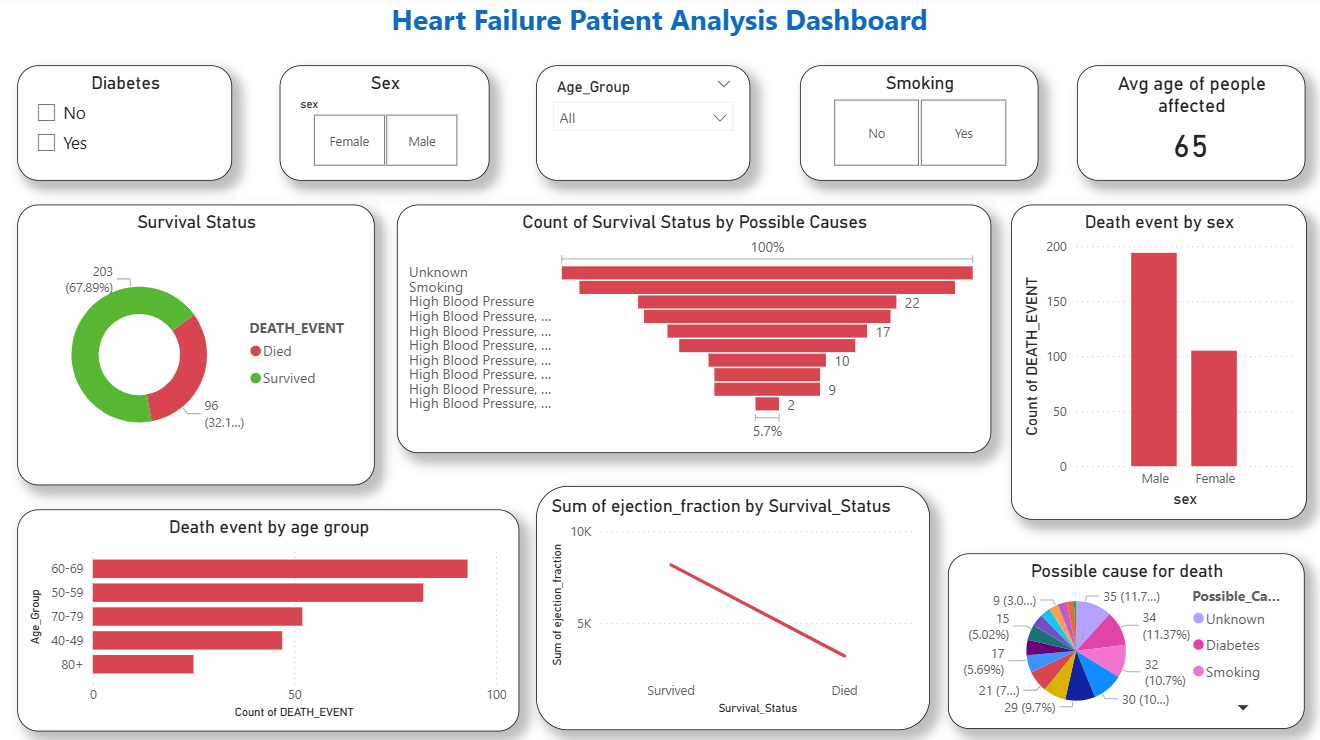

Layout of this report page (visuals, bound fields, positions):
{"tool":"powerbi","page":{"name":"Page 1","canvas":[1280,720],"ordinal":0},"visuals":[{"type":"card","title":"Avg age of people affected","fields":{"Values":["Avg(heart_failure_clinical_records_dataset_cleaned.age)"]},"box":[1037.5,67.5,217.5,110],"z":0},{"type":"columnChart","title":"Death event by sex","fields":{"Category":["heart_failure_clinical_records_dataset_cleaned.sex"],"Y":["CountNonNull(heart_failure_clinical_records_dataset_cleaned.DEATH_EVENT)"]},"box":[974.3,199.5,281.5,300],"z":1000},{"type":"donutChart","title":"Survival Status ","fields":{"Y":["CountNonNull(heart_failure_clinical_records_dataset_cleaned.Survival_Status)"],"Series":["heart_failure_clinical_records_dataset_cleaned.DEATH_EVENT"]},"box":[27.8,199.5,340.2,267.5],"z":2000},{"type":"pieChart","title":"Possible cause for death","fields":{"Category":["heart_failure_clinical_records_dataset_cleaned.Possible_Causes"],"Y":["CountNonNull(heart_failure_clinical_records_dataset_cleaned.DEATH_EVENT)"]},"box":[915,532.5,340,167.5],"z":3000},{"type":"lineChart","fields":{"Category":["heart_failure_clinical_records_dataset_cleaned.Survival_Status"],"Y":["Sum(heart_failure_clinical_records_dataset_cleaned.ejection_fraction)"]},"box":[522.5,467.5,375,232.5],"z":4000},{"type":"barChart","title":"Death event by age group","fields":{"Category":["heart_failure_clinical_records_dataset_cleaned.Age_Group"],"Y":["CountNonNull(heart_failure_clinical_records_dataset_cleaned.DEATH_EVENT)"]},"box":[28.3,490,478.3,211.7],"z":5000},{"type":"slicer","fields":{"Values":["heart_failure_clinical_records_dataset_cleaned.Age_Group"]},"box":[522.9,67.1,204.3,110],"z":6000},{"type":"slicer","title":"Sex","fields":{"Values":["heart_failure_clinical_records_dataset_cleaned.sex"]},"box":[278.6,67.1,200,110],"z":7000},{"type":"slicer","title":"Diabetes","fields":{"Values":["heart_failure_clinical_records_dataset_cleaned.diabetes"]},"box":[27.5,67.5,205,110],"z":8000},{"type":"funnel","title":"Count of Survival Status by Possible Causes","fields":{"Category":["heart_failure_clinical_records_dataset_cleaned.Possible_Causes"],"Y":["CountNonNull(heart_failure_clinical_records_dataset_cleaned.Survival_Status)"]},"box":[389.7,199.5,566,236.6],"z":9000},{"type":"textbox","box":[0,0,1280,52],"z":9001},{"type":"slicer","title":"Smoking","fields":{"Values":["heart_failure_clinical_records_dataset_cleaned.smoking"]},"box":[774.3,67.1,227.1,110],"z":9002}]}

Visuals, with their boxes in screenshot pixels (x1, y1, x2, y2), scaled from the page's 1280x720 canvas onto the 1320x740 screenshot:
"Avg age of people affected" card: <region>1070, 69, 1294, 182</region>
"Death event by sex" columnChart: <region>1005, 205, 1295, 513</region>
"Survival Status " donutChart: <region>29, 205, 380, 480</region>
"Possible cause for death" pieChart: <region>944, 547, 1294, 719</region>
lineChart - heart_failure_clinical_records_dataset_cleaned.Survival_Status x Sum(heart_failure_clinical_records_dataset_cleaned.ejection_fraction): <region>539, 480, 926, 719</region>
"Death event by age group" barChart: <region>29, 504, 522, 721</region>
slicer - heart_failure_clinical_records_dataset_cleaned.Age_Group: <region>539, 69, 750, 182</region>
"Sex" slicer: <region>287, 69, 494, 182</region>
"Diabetes" slicer: <region>28, 69, 240, 182</region>
"Count of Survival Status by Possible Causes" funnel: <region>402, 205, 986, 448</region>
textbox: <region>0, 0, 1319, 53</region>
"Smoking" slicer: <region>798, 69, 1033, 182</region>
